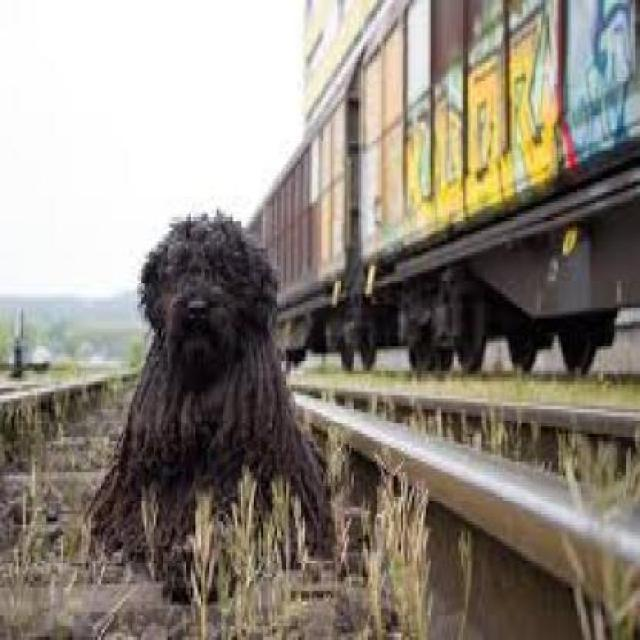danger: (87, 199, 324, 601)
rail: (1, 317, 636, 640)
